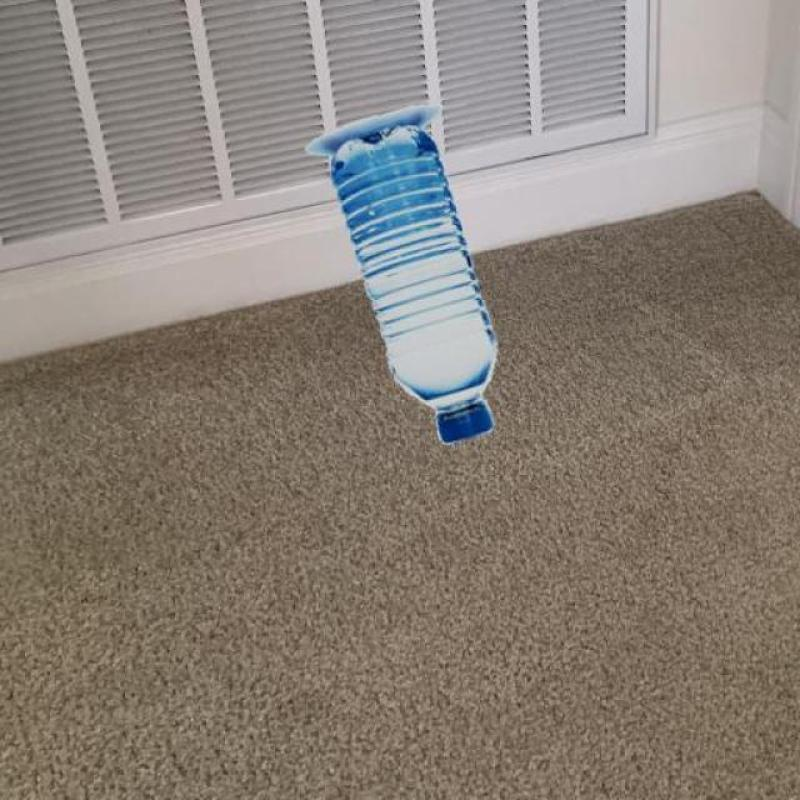botella: (328, 125, 496, 447)
